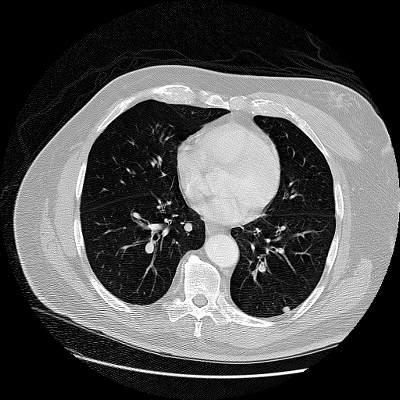nodule: (282, 305, 290, 313)
